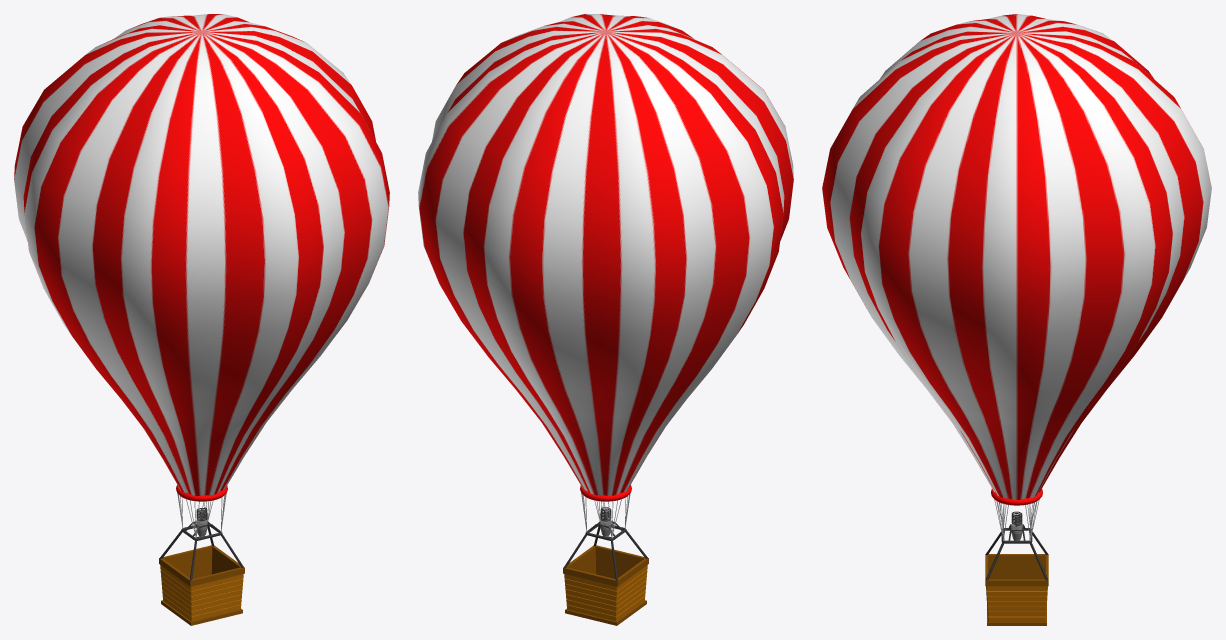
File: ballon.glb
3 renders of one model, left to right at view 1: azimuth 30°, elevation 25°; view 2: azimuth 150°, elevation 25°; view 3: azimuth 270°, elevation 25°, orthographic.
Visible parts, largest first — view 1: V1_HotAirBalloon_Envelope_1_Vehicle_Elements_1_0; view 2: V1_HotAirBalloon_Envelope_1_Vehicle_Elements_1_0; view 3: V1_HotAirBalloon_Envelope_1_Vehicle_Elements_1_0.
Boxes of the visible parts, x1,y1,x2,y2 form: V1_HotAirBalloon_Envelope_1_Vehicle_Elements_1_0: [14, 14, 389, 625]; V1_HotAirBalloon_Envelope_1_Vehicle_Elements_1_0: [418, 14, 793, 625]; V1_HotAirBalloon_Envelope_1_Vehicle_Elements_1_0: [822, 14, 1211, 625].
Size of the model in its own units: 12.29 by 20.19 by 12.29.
Materials: 2 (2 with a texture image).
